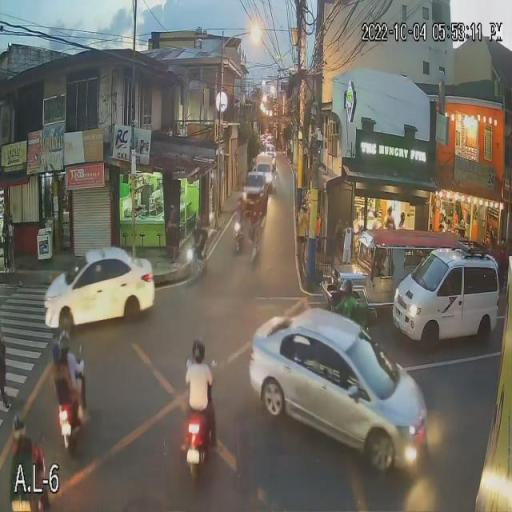helmet: (189, 337, 212, 366), (54, 327, 73, 355), (49, 344, 65, 366), (338, 280, 355, 300), (10, 414, 23, 440), (192, 216, 201, 233)
motorcycle: (165, 406, 222, 479), (58, 373, 88, 446)
rider: (182, 340, 213, 424), (46, 351, 72, 406), (8, 424, 40, 468), (57, 330, 79, 386), (337, 280, 357, 322), (188, 220, 206, 254)
